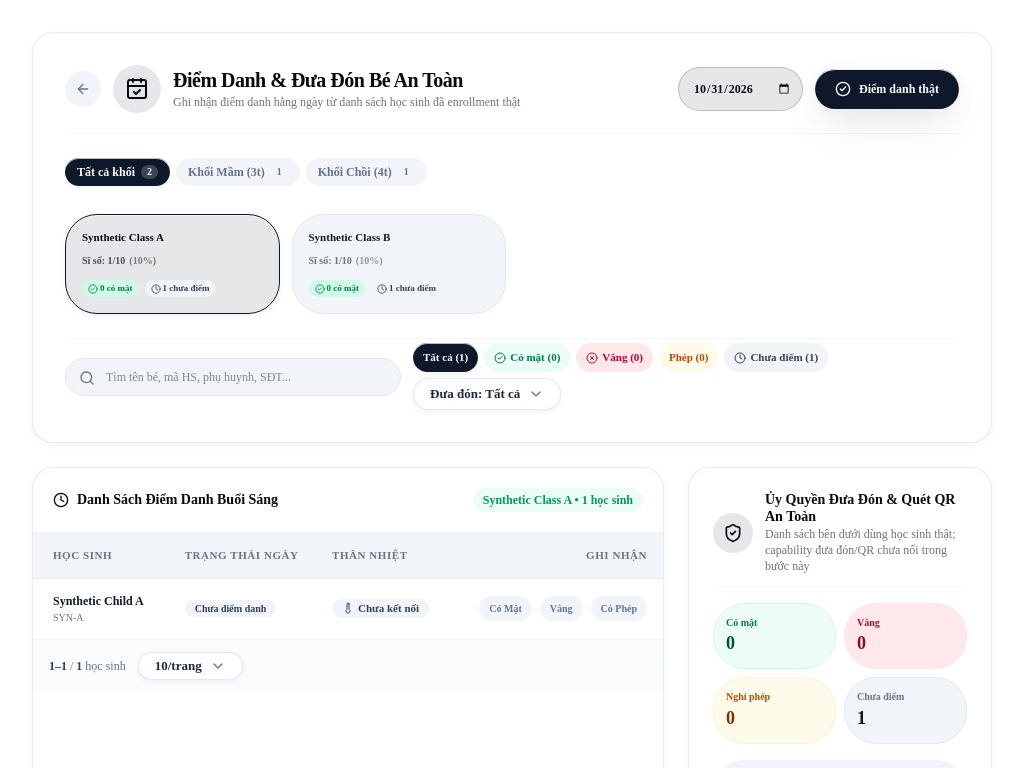
Scenario: hides stale pickup cards immediately while another course loads
This screenshot has width=1024, height=768.
Click the button "Synthetic Class B Sĩ số: 1/10(10%) 0 có mặt 1 chưa điểm". click: (399, 264)
box: 292,214 -> 506,314
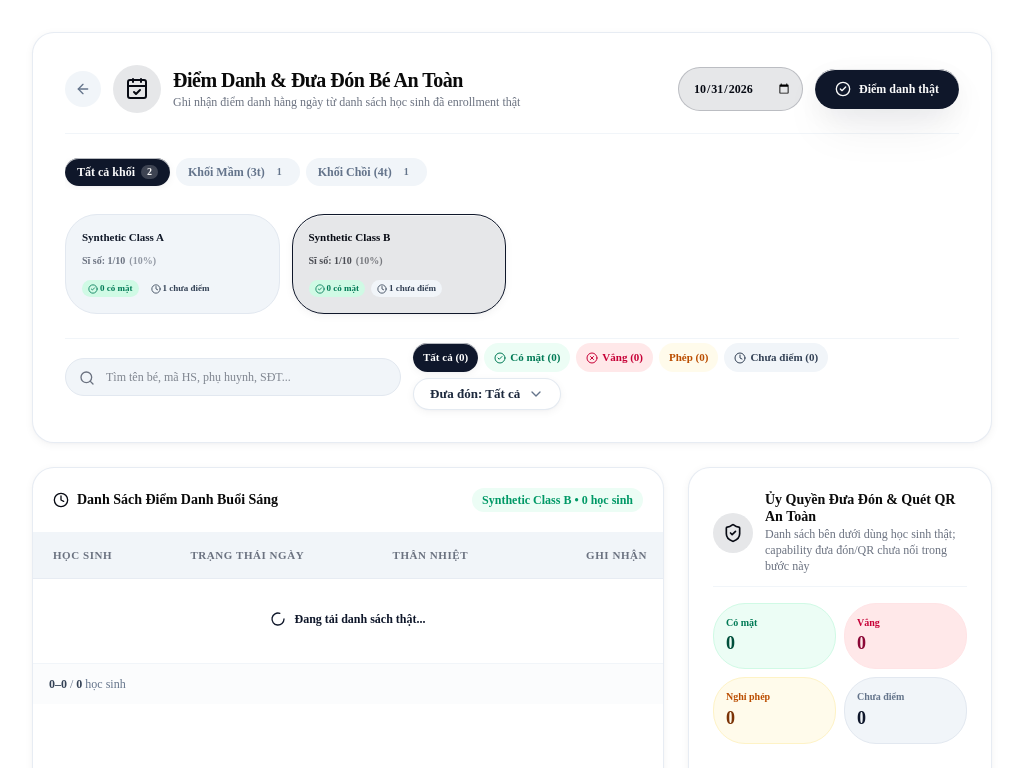
Expected: the text "Synthetic Child A" is not shown
